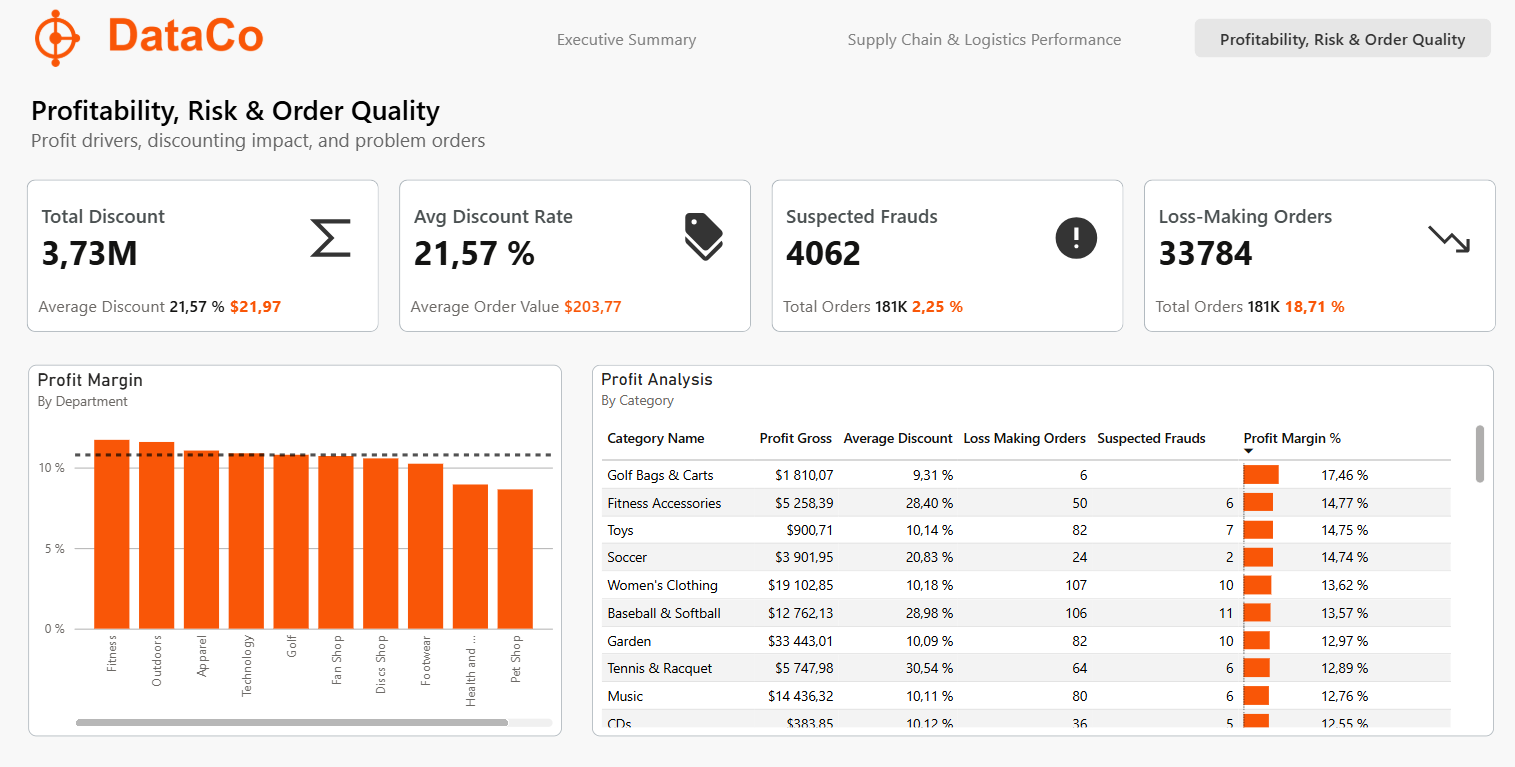

Layout of this report page (visuals, bound fields, positions):
{"tool":"powerbi","page":{"name":"Profitability, Risk & Order Quality","canvas":[1500,800],"ordinal":2},"visuals":[{"type":"image","box":[32.2,13.3,261.1,74.4],"z":0},{"type":"pageNavigator","box":[475.7,31.4,992,38],"z":1000},{"type":"cardVisual","fields":{"Data":["Sum(Fact - DataCo Supply Chain Dataset.Order Item Discount)","Avg(Fact - DataCo Supply Chain Dataset.Discount Rate)","Measures Table.Suspected Frauds","Measures Table.Loss Making Orders"]},"box":[16.7,171.7,1471.7,183.3],"z":2000},{"type":"clusteredColumnChart","title":"Profit Margin","fields":{"Category":["Dim - Departments Data.Department Name"],"Y":["Measures Table.Profit Margin %"]},"box":[35,370,521.7,363.3],"z":3000},{"type":"tableEx","title":"Profit Analysis","fields":{"Values":["Dim - Categories Data.Category Name","Measures Table.Profit Gross","Measures Table.Average Discount","Measures Table.Loss Making Orders","Measures Table.Suspected Frauds","Measures Table.Profit Margin %"]},"box":[586.7,370,881.7,363.3],"z":4000},{"type":"textbox","box":[32.5,98.3,700,72.5],"z":5000}]}

Visuals, with their boxes on the page's 1500x800 design canvas (x1, y1, x2, y2). These are canvas units, not pixel positions in the 1515x767 screenshot, which may show the page scaled, cropped or inside an application window:
image: [left=32, top=13, right=293, bottom=88]
pageNavigator: [left=476, top=31, right=1468, bottom=69]
cardVisual - Sum(Fact - DataCo Supply Chain Dataset.Order Item Discount) x Avg(Fact - DataCo Supply Chain Dataset.Discount Rate): [left=17, top=172, right=1488, bottom=355]
"Profit Margin" clusteredColumnChart: [left=35, top=370, right=557, bottom=733]
"Profit Analysis" tableEx: [left=587, top=370, right=1468, bottom=733]
textbox: [left=32, top=98, right=732, bottom=171]
